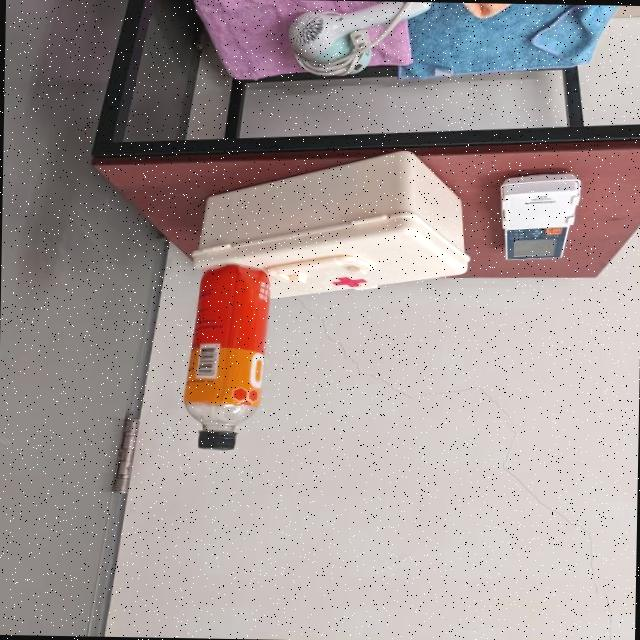bottle: (174, 257, 284, 462)
cap: (190, 426, 240, 455)
